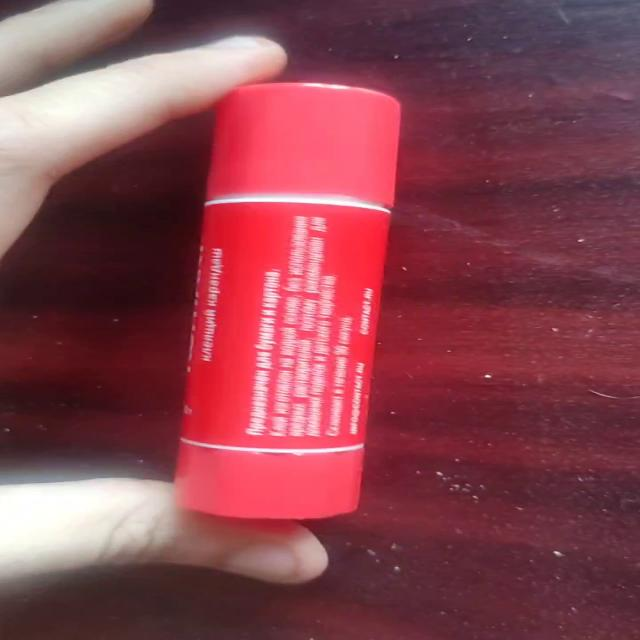glue: (171, 80, 401, 520)
